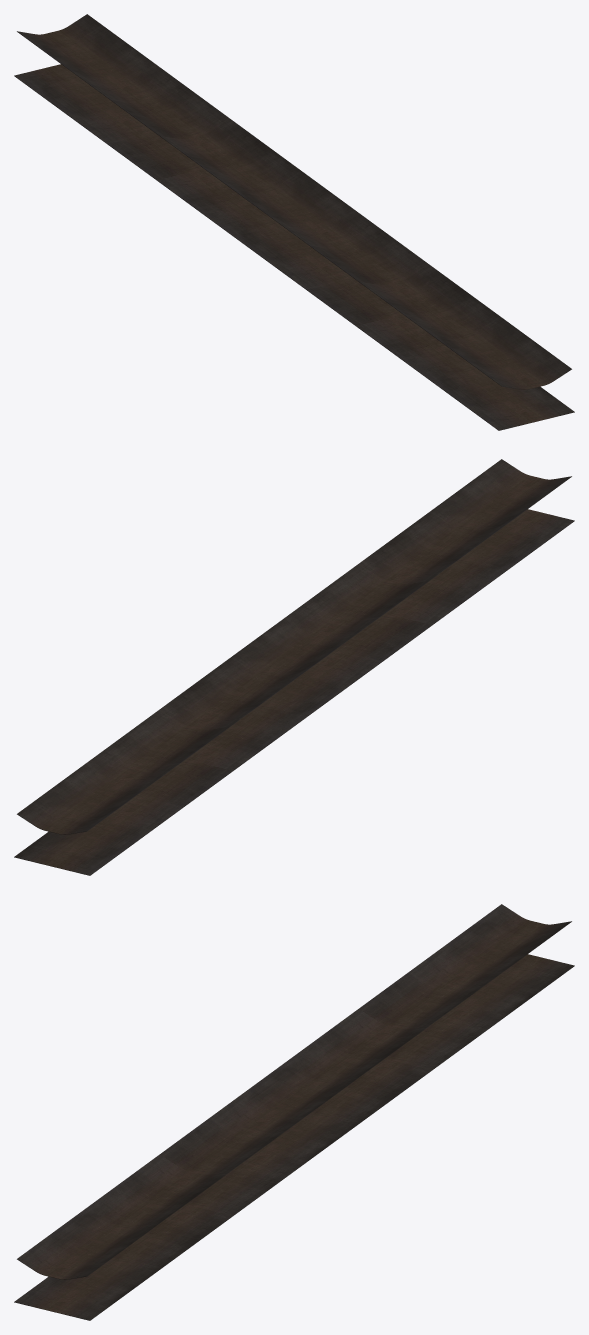
File: Conveyor_Belt.obj
The picture shows the model from 3 angles, top to bottom: view 1: azimuth 30°, elevation 25°; view 2: azimuth 150°, elevation 25°; view 3: azimuth 330°, elevation 25°; orthographic projection.
Parts seen in each view (by area): view 1: Conveyor_Belt; view 2: Conveyor_Belt; view 3: Conveyor_Belt.
Part boxes in pixels (bbox=[...]): Conveyor_Belt: bbox=[14, 14, 574, 430]; Conveyor_Belt: bbox=[14, 459, 574, 875]; Conveyor_Belt: bbox=[14, 904, 574, 1320].
Size of the model in its own units: 1.11 by 0.6119 by 12.2.
Materials: 1 (1 with a texture image).
